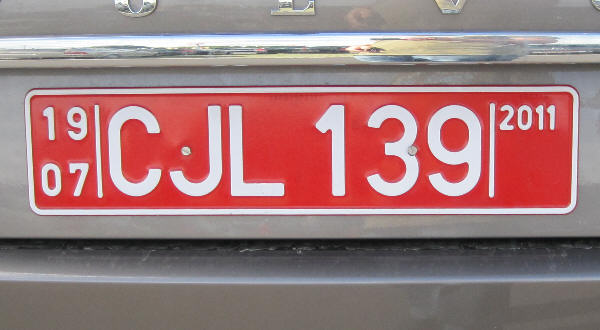license_plate: (25, 84, 577, 214)
